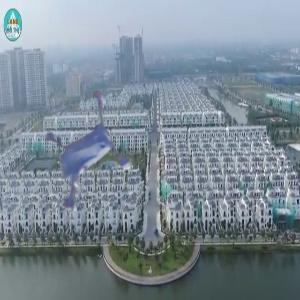drone: (21, 103, 158, 240)
